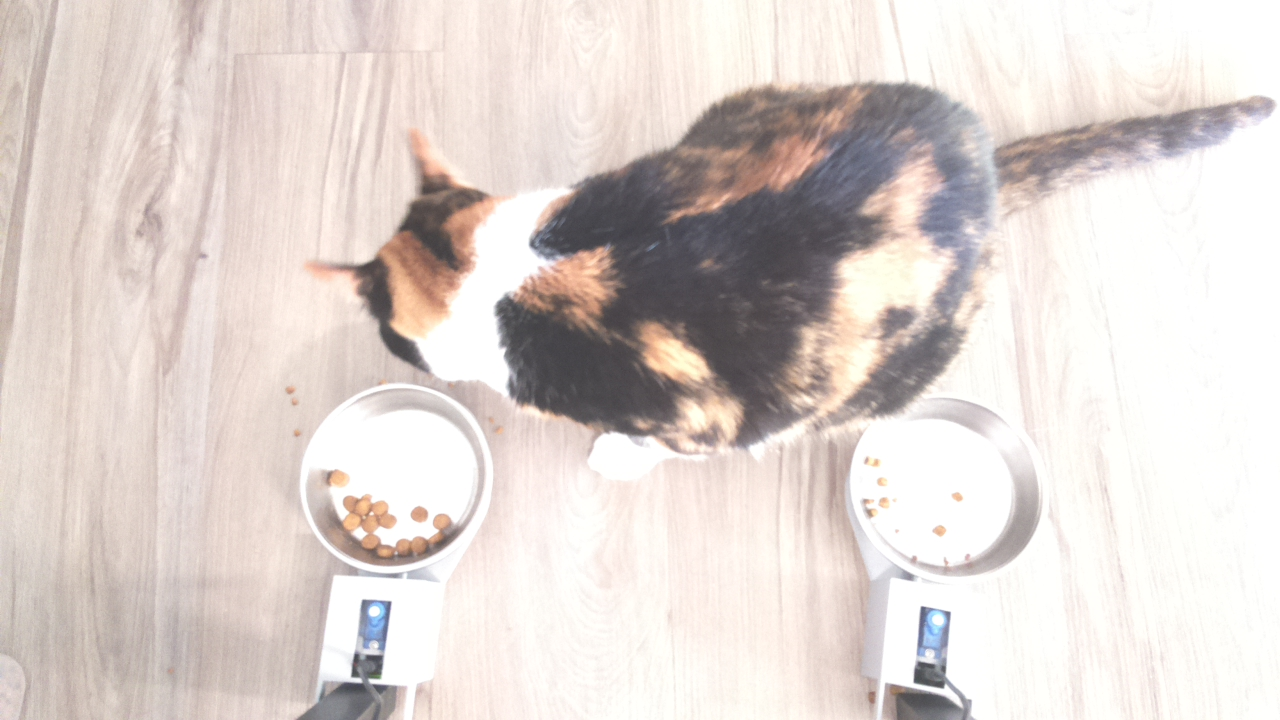bella: (299, 122, 541, 394)
open_bowl: (294, 384, 490, 576), (861, 394, 1047, 575)
